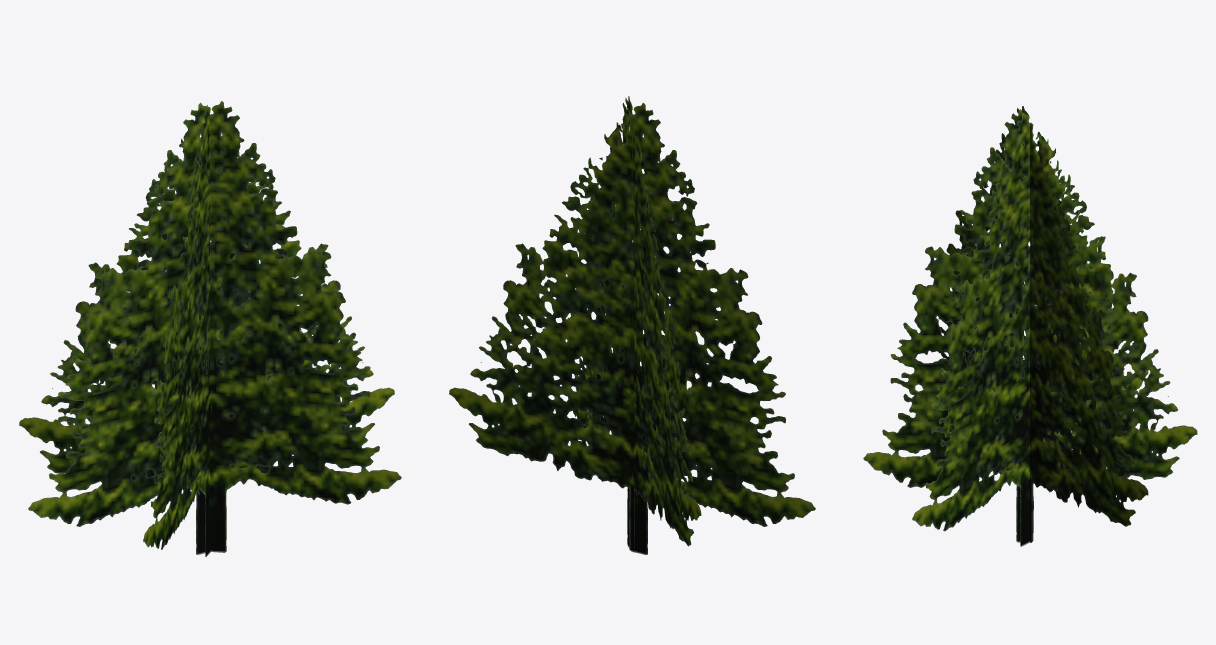
Rendered from tree_large.fbx.
The picture shows the model from 3 angles, left to right: view 1: azimuth 30°, elevation 25°; view 2: azimuth 150°, elevation 25°; view 3: azimuth 270°, elevation 25°; orthographic projection. The views are drawn at different scales.
Parts seen in each view (by area): view 1: fir; view 2: fir; view 3: fir.
Boxes of the visible parts, x1,y1,x2,y2 form: fir: (19,101,401,556); fir: (449,96,815,554); fir: (863,106,1197,546).
Size of the model in its own units: 1048 by 1219 by 863.
1 material, 1 textured.
